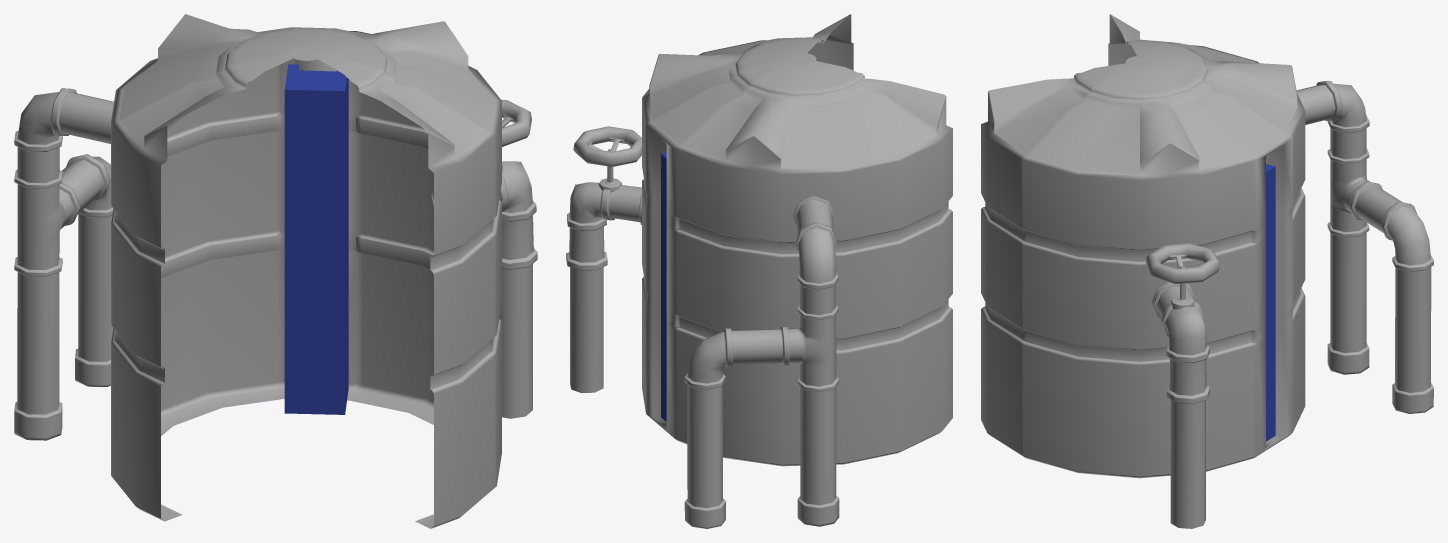
Rendered from MODEL_tankwithgauge_G4_1.fbx.
3 renders of one model, left to right at view 1: azimuth 30°, elevation 25°; view 2: azimuth 150°, elevation 25°; view 3: azimuth 270°, elevation 25°, orthographic. The views are drawn at different scales.
Visible parts, largest first — view 1: Geo_tank_low, Geo_water, Geo_valve_low; view 2: Geo_tank_low, Geo_valve_low, Geo_water; view 3: Geo_tank_low, Geo_water, Geo_valve_low.
Part boxes in pixels (x1,y1,x2,y2): Geo_tank_low: (14,14,537,528); Geo_water: (284,64,348,414); Geo_valve_low: (501,99,531,173); Geo_tank_low: (566,14,952,528); Geo_valve_low: (573,126,641,192); Geo_water: (661,152,666,421); Geo_tank_low: (981,14,1433,528); Geo_water: (1266,164,1275,441); Geo_valve_low: (1145,243,1219,309).
Bounding box in the file's own units: 120 × 117 × 132.
